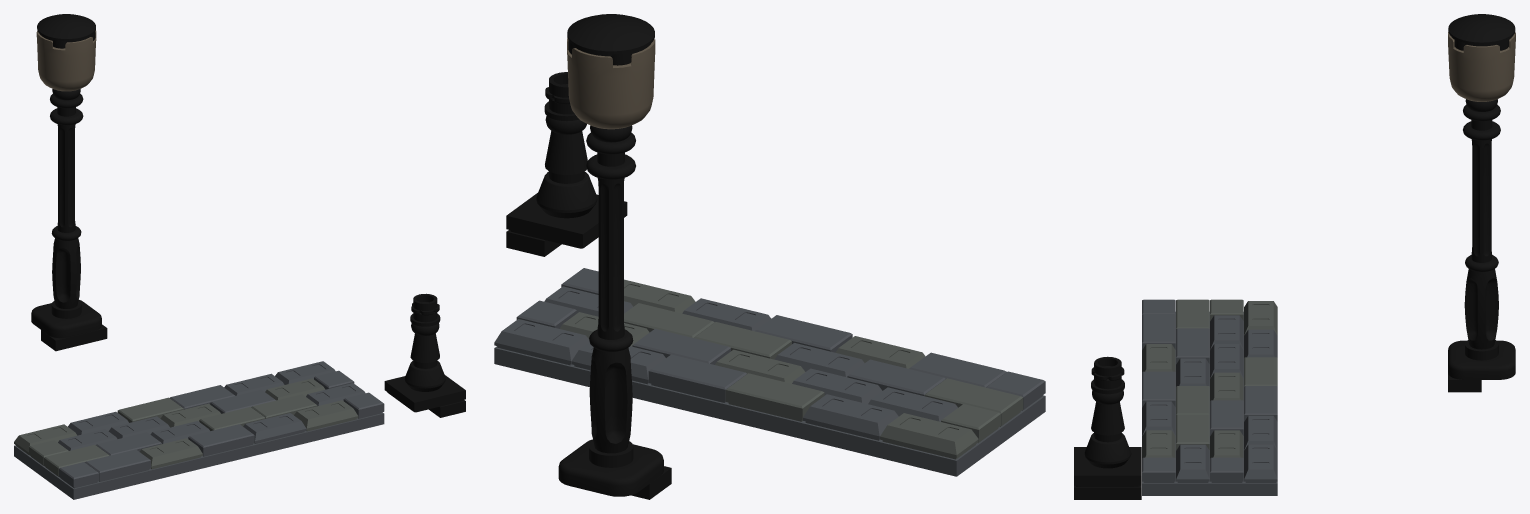
3 views of the same model, side by side, from view 1: azimuth 30°, elevation 25°; view 2: azimuth 150°, elevation 25°; view 3: azimuth 270°, elevation 25° (orthographic). The views are drawn at different scales.
Parts seen in each view (by area): view 1: part.028, part, part.031, part.040, part.030, part.008, part.009, part.024, part.025, part.026, part.006, part.037 (+22 smaller); view 2: part.028, part, part.031, part.030, part.001, part.040, part.015, part.002, part.014, part.017, part.006, part.037 (+23 smaller); view 3: part.028, part.031, part, part.030, part.040, part.017, part.023, part.037, part.038, part.003, part.005, part.007 (+23 smaller).
Boxes of the visible parts, left/top/right/bottom form: part.028: left=31, top=93, right=101, bottom=338; part: left=14, top=412, right=384, bottom=499; part.031: left=36, top=30, right=96, bottom=91; part.040: left=384, top=375, right=465, bottom=412; part.030: left=37, top=14, right=95, bottom=48; part.008: left=188, top=424, right=254, bottom=456; part.009: left=85, top=449, right=150, bottom=481; part.024: left=294, top=400, right=358, bottom=431; part.025: left=243, top=413, right=306, bottom=443; part.026: left=139, top=438, right=202, bottom=469; part.006: left=44, top=445, right=109, bottom=477; part.037: left=404, top=361, right=445, bottom=391; part.028: left=558, top=132, right=663, bottom=496; part: left=494, top=346, right=1045, bottom=476; part.031: left=567, top=38, right=655, bottom=129; part.030: left=567, top=14, right=654, bottom=65; part.001: left=725, top=373, right=824, bottom=421; part.040: left=506, top=193, right=627, bottom=248; part.015: left=880, top=413, right=978, bottom=459; part.002: left=648, top=354, right=746, bottom=402; part.014: left=803, top=394, right=898, bottom=440; part.017: left=494, top=319, right=589, bottom=365; part.006: left=924, top=378, right=1023, bottom=426; part.037: left=536, top=171, right=597, bottom=218; part.028: left=1448, top=104, right=1515, bottom=379; part.031: left=1448, top=32, right=1515, bottom=101; part: left=1142, top=312, right=1277, bottom=495; part.030: left=1448, top=14, right=1515, bottom=50; part.040: left=1074, top=447, right=1141, bottom=486; part.017: left=1244, top=444, right=1277, bottom=482; part.023: left=1176, top=444, right=1209, bottom=482; part.037: left=1084, top=433, right=1131, bottom=468; part.038: left=1091, top=402, right=1124, bottom=442; part.003: left=1210, top=400, right=1243, bottom=435; part.005: left=1176, top=328, right=1209, bottom=364; part.007: left=1176, top=414, right=1209, bottom=450.
Bounding box in the file's own units: 11192 × 9918 × 10396.
